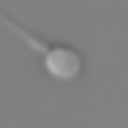normal: (1, 17, 49, 53)
